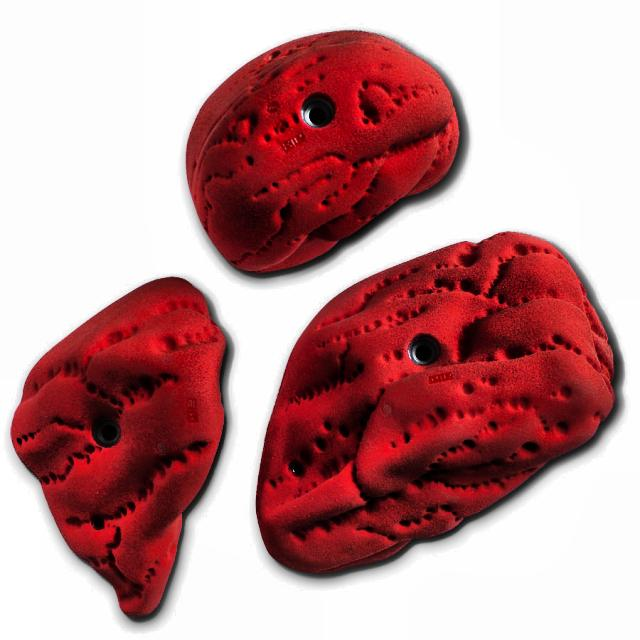Hold: (253, 228, 615, 576), (15, 274, 226, 618), (185, 27, 452, 262)
